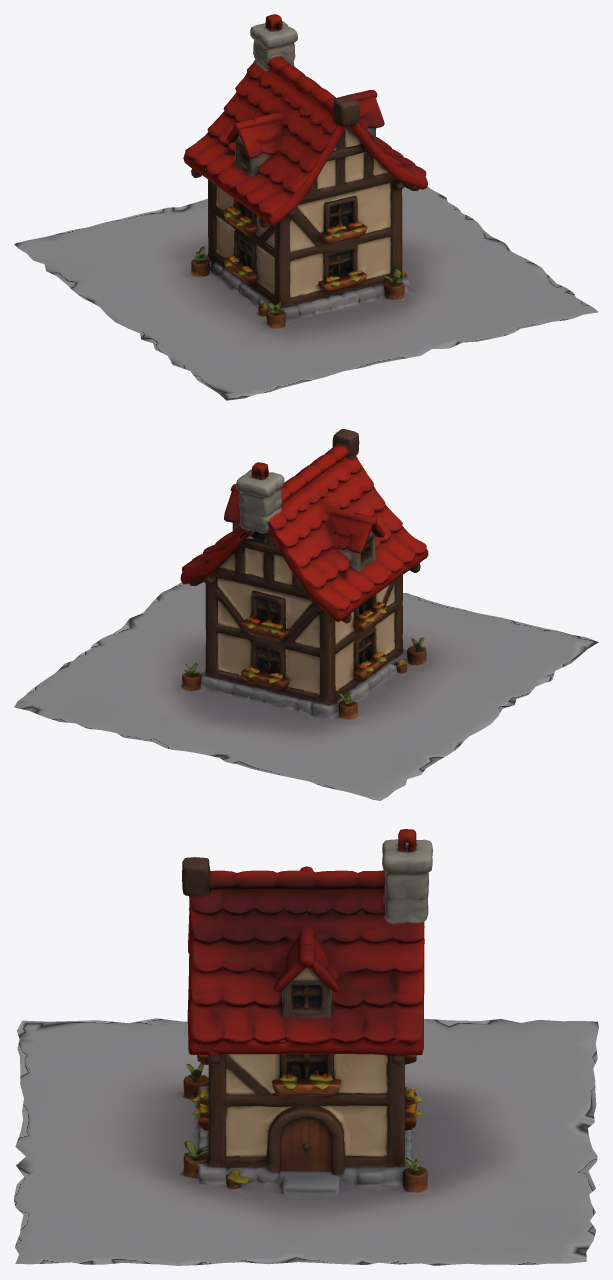
File: house_a_t1.glb
The picture shows the model from 3 angles, top to bottom: view 1: azimuth 30°, elevation 25°; view 2: azimuth 150°, elevation 25°; view 3: azimuth 270°, elevation 25°; orthographic projection. The views are drawn at different scales.
Parts seen in each view (by area): view 1: geometry_0; view 2: geometry_0; view 3: geometry_0.
Part boxes in pixels (x1,y1,x2,y2): geometry_0: (14,14,598,400); geometry_0: (14,429,598,800); geometry_0: (14,829,598,1265).
Size of the model in its own units: 1 by 0.5954 by 0.9989.
1 material, 1 textured.
